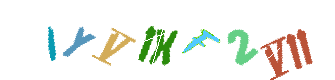2: (188, 0, 268, 80)
5: (119, 0, 199, 80)
7: (248, 0, 328, 80)
9: (123, 0, 203, 80)
F: (145, 0, 225, 80)
I: (69, 0, 149, 80)
Y: (104, 0, 184, 80)
